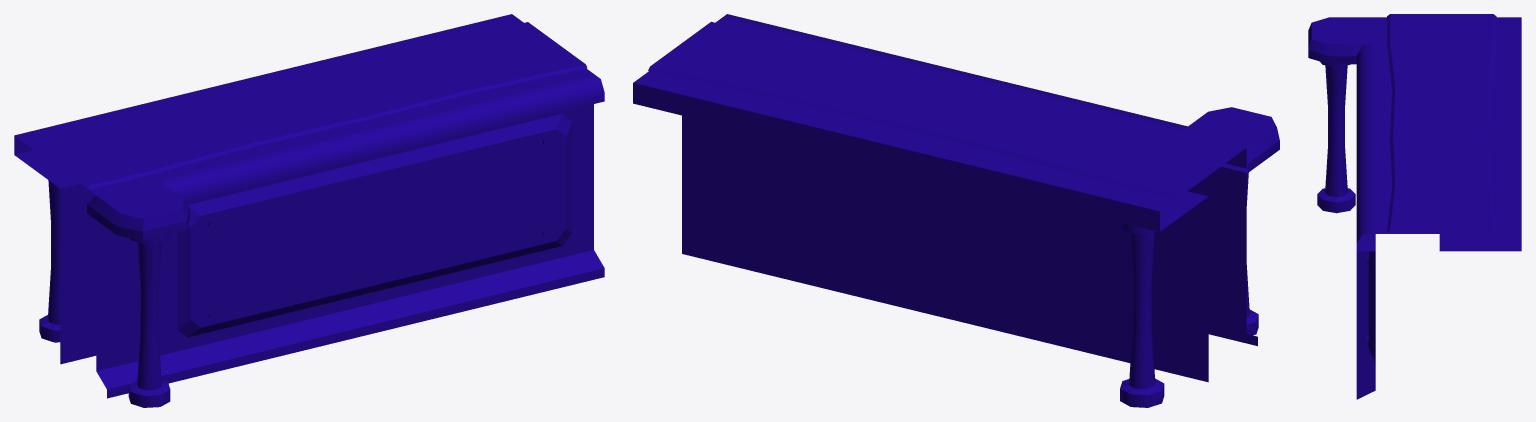
File: CG_Model_TownInt_CounterBrace_Mar24_ChrisMcknight.FBX
The picture shows the model from 3 angles, left to right: view 1: azimuth 30°, elevation 25°; view 2: azimuth 150°, elevation 25°; view 3: azimuth 270°, elevation 25°; orthographic projection. The views are drawn at different scales.
Parts seen in each view (by area): view 1: Box038; view 2: Box038; view 3: Box038.
Part boxes in pixels (x1,y1,x2,y2): Box038: (14, 14, 604, 407); Box038: (633, 14, 1279, 407); Box038: (1308, 14, 1521, 399).
Bounding box in the file's own units: 51.69 × 19.55 × 21.32.
